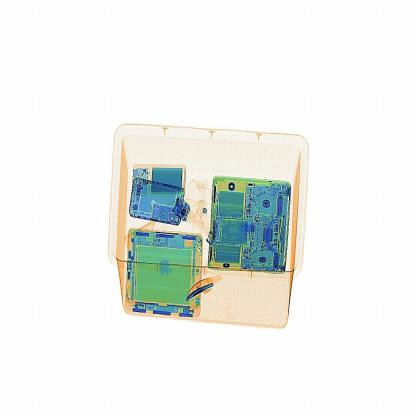pliers: (185, 275, 225, 302)
